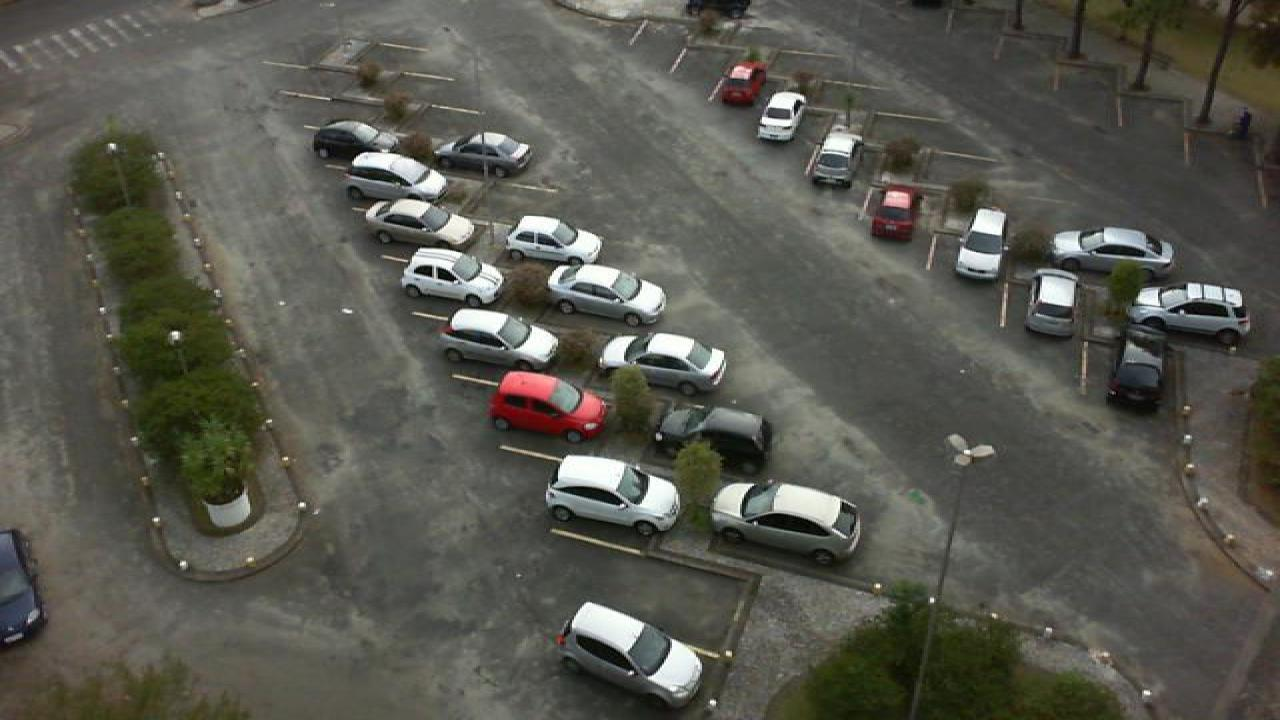Car: (554, 600, 708, 712), (710, 479, 864, 564), (540, 453, 686, 538), (484, 369, 610, 444), (598, 330, 730, 396), (652, 399, 774, 468), (544, 262, 670, 328), (436, 307, 562, 371), (1126, 280, 1252, 341), (1052, 225, 1178, 277), (400, 245, 506, 306), (0, 526, 50, 650), (342, 150, 450, 204), (504, 214, 608, 270), (364, 197, 478, 247), (1106, 323, 1170, 411), (432, 130, 534, 178), (1022, 266, 1080, 338), (952, 207, 1008, 281), (310, 118, 400, 162), (806, 130, 866, 188), (868, 184, 922, 240), (756, 90, 810, 143), (718, 58, 774, 107)
